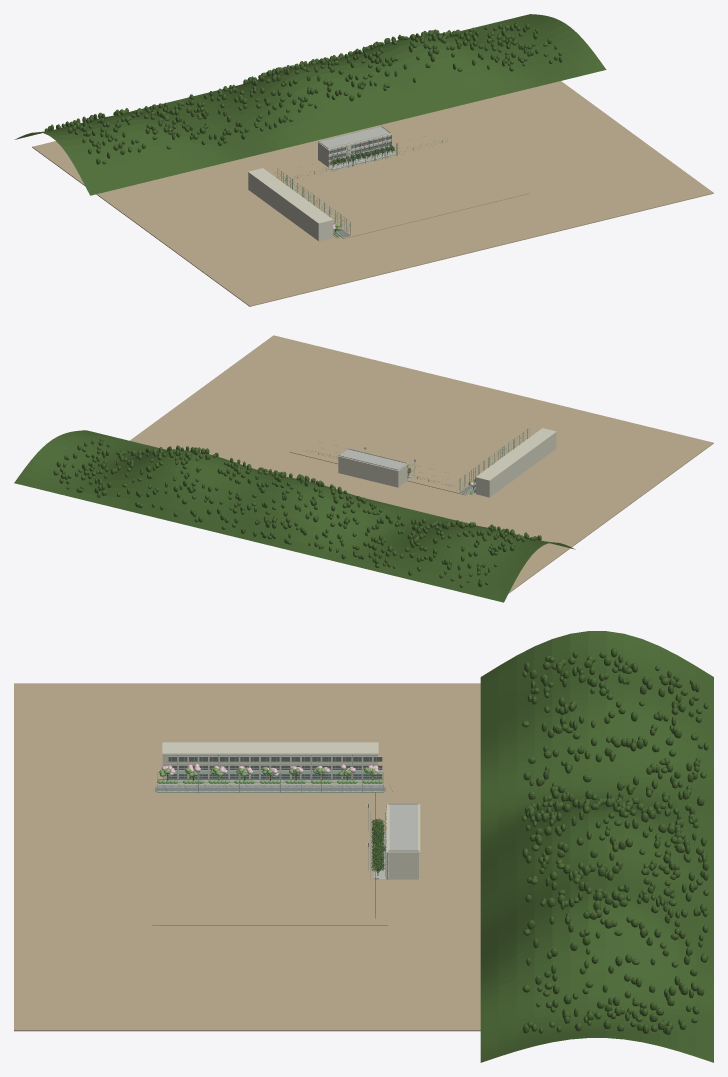
File: Hyouka_Schoolyard_VIS.glb
3 views of the same model, one above another, from view 1: azimuth 30°, elevation 25°; view 2: azimuth 150°, elevation 25°; view 3: azimuth 270°, elevation 25° (orthographic). The views are drawn at different scales.
Visible parts, largest first — view 1: VIS_HY_YARD_Compacted_Sand.001, VIS_HY_YARD_Dark_Woodland, VIS_HY_YARD_Compacted_Sand, VIS_HY_YARD_Aged_Ivory_Stucco.003, VIS_HY_YARD_Concrete, VIS_HY_YARD_Aged_Ivory_Stucco, VIS_HY_YARD_Blue_Grey_Glass.002; view 2: VIS_HY_YARD_Compacted_Sand.001, VIS_HY_YARD_Dark_Woodland, VIS_HY_YARD_Compacted_Sand, VIS_HY_YARD_Aged_Ivory_Stucco.003, VIS_HY_YARD_Aged_Ivory_Stucco, VIS_HY_YARD_Concrete; view 3: VIS_HY_YARD_Compacted_Sand.001, VIS_HY_YARD_Dark_Woodland, VIS_HY_YARD_Compacted_Sand, VIS_HY_YARD_Aged_Ivory_Stucco.003, VIS_HY_YARD_Concrete, VIS_HY_YARD_Blue_Grey_Glass.003, VIS_HY_YARD_Concrete.003, VIS_HY_YARD_Foliage, VIS_HY_YARD_Galvanized_Steel.002, VIS_HY_YARD_Aged_Ivory_Stucco, VIS_HY_YARD_Ballstop_Green, VIS_HY_YARD_Footpath.
Boxes of the visible parts, x1=… form: VIS_HY_YARD_Compacted_Sand.001: x1=32, y1=81, x2=713, y2=306; VIS_HY_YARD_Dark_Woodland: x1=14, y1=14, x2=606, y2=195; VIS_HY_YARD_Compacted_Sand: x1=279, y1=137, x2=529, y2=238; VIS_HY_YARD_Aged_Ivory_Stucco.003: x1=248, y1=168, x2=333, y2=241; VIS_HY_YARD_Concrete: x1=320, y1=126, x2=392, y2=238; VIS_HY_YARD_Aged_Ivory_Stucco: x1=318, y1=126, x2=391, y2=166; VIS_HY_YARD_Blue_Grey_Glass.002: x1=328, y1=136, x2=391, y2=165; VIS_HY_YARD_Compacted_Sand.001: x1=130, y1=335, x2=713, y2=593; VIS_HY_YARD_Dark_Woodland: x1=14, y1=430, x2=575, y2=602; VIS_HY_YARD_Compacted_Sand: x1=290, y1=398, x2=527, y2=495; VIS_HY_YARD_Aged_Ivory_Stucco.003: x1=475, y1=428, x2=556, y2=497; VIS_HY_YARD_Aged_Ivory_Stucco: x1=338, y1=448, x2=407, y2=487; VIS_HY_YARD_Concrete: x1=340, y1=449, x2=473, y2=494; VIS_HY_YARD_Compacted_Sand.001: x1=14, y1=683, x2=480, y2=1031; VIS_HY_YARD_Dark_Woodland: x1=480, y1=631, x2=713, y2=1062; VIS_HY_YARD_Compacted_Sand: x1=152, y1=786, x2=388, y2=925; VIS_HY_YARD_Aged_Ivory_Stucco.003: x1=162, y1=742, x2=378, y2=781; VIS_HY_YARD_Concrete: x1=156, y1=783, x2=417, y2=879; VIS_HY_YARD_Blue_Grey_Glass.003: x1=168, y1=757, x2=382, y2=778; VIS_HY_YARD_Concrete.003: x1=156, y1=754, x2=385, y2=786; VIS_HY_YARD_Foliage: x1=157, y1=766, x2=382, y2=783; VIS_HY_YARD_Galvanized_Steel.002: x1=168, y1=756, x2=381, y2=778; VIS_HY_YARD_Aged_Ivory_Stucco: x1=388, y1=803, x2=418, y2=879; VIS_HY_YARD_Ballstop_Green: x1=158, y1=772, x2=392, y2=918; VIS_HY_YARD_Footpath: x1=155, y1=787, x2=385, y2=791.
Size of the model in its own units: 356 by 27.7 by 273.
